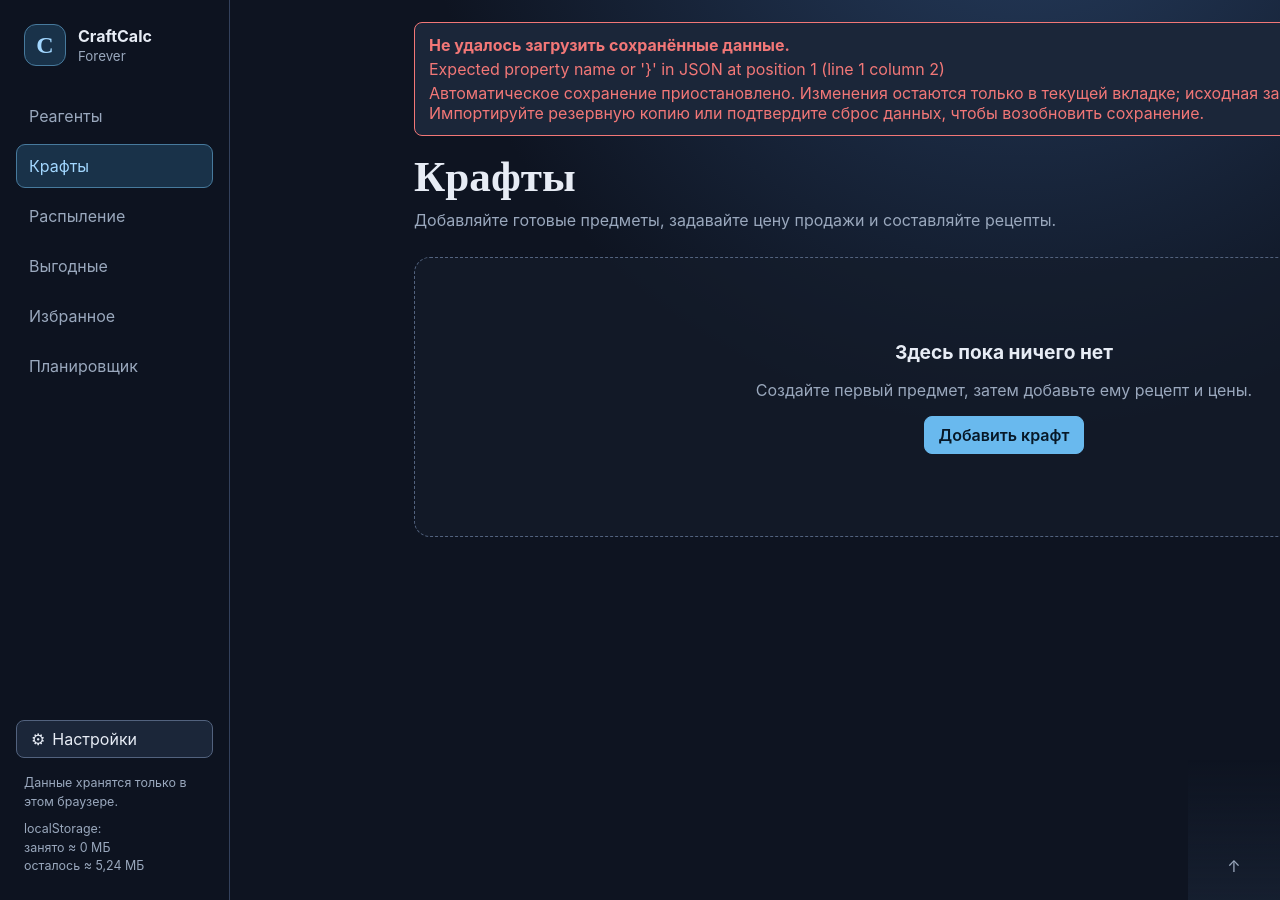
Test case: восстановление сохранения в App › сбрасывает данные только после подтверждения и убирает предупреждение
The width and height of the screenshot is (1280, 900).
Step 1. Click the button "⚙ Настройки" → point(114, 739), box 16,720 -> 213,758
(page scrolled)
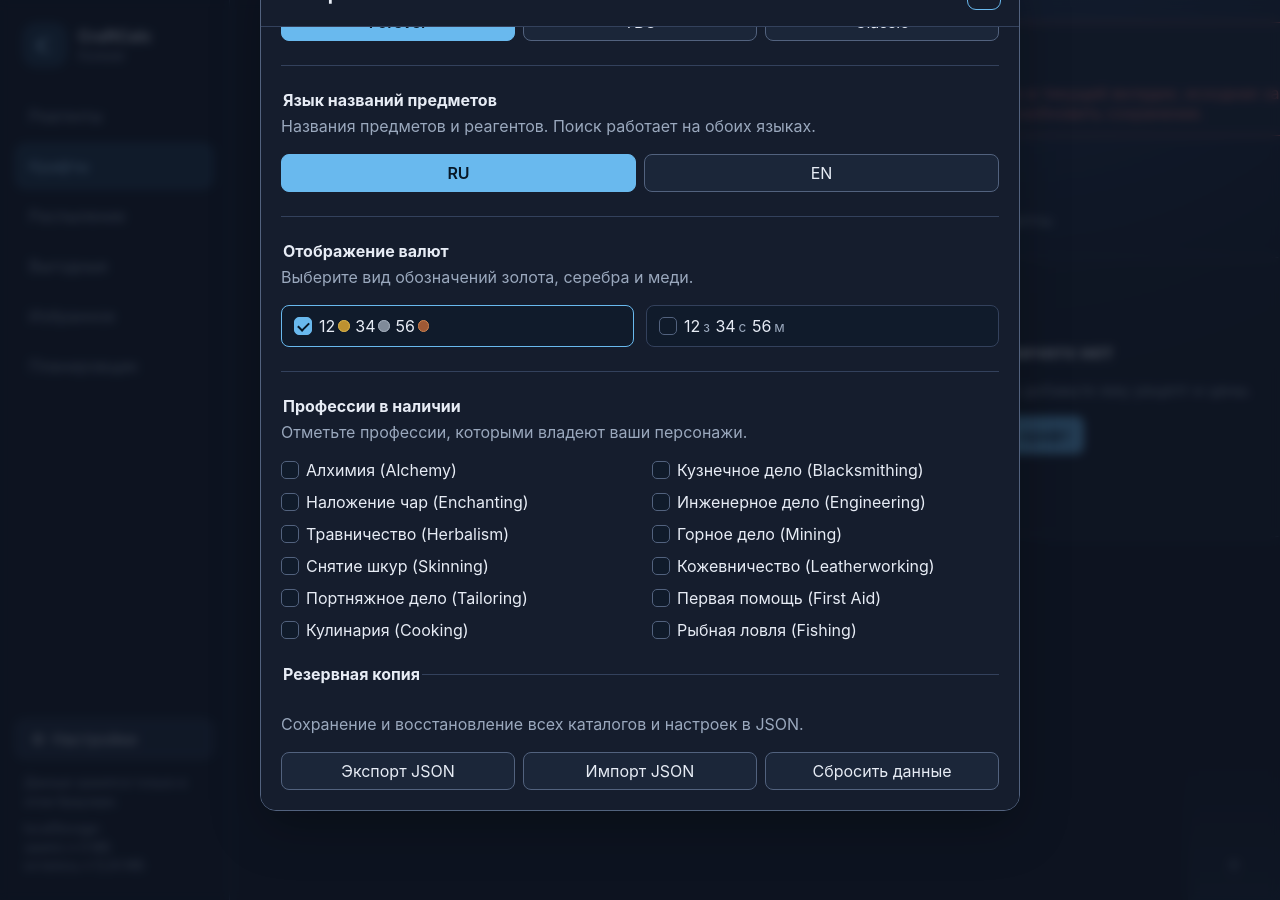
Step 2. Click the button "Сбросить данные" → point(882, 771), box 765,752 -> 999,790
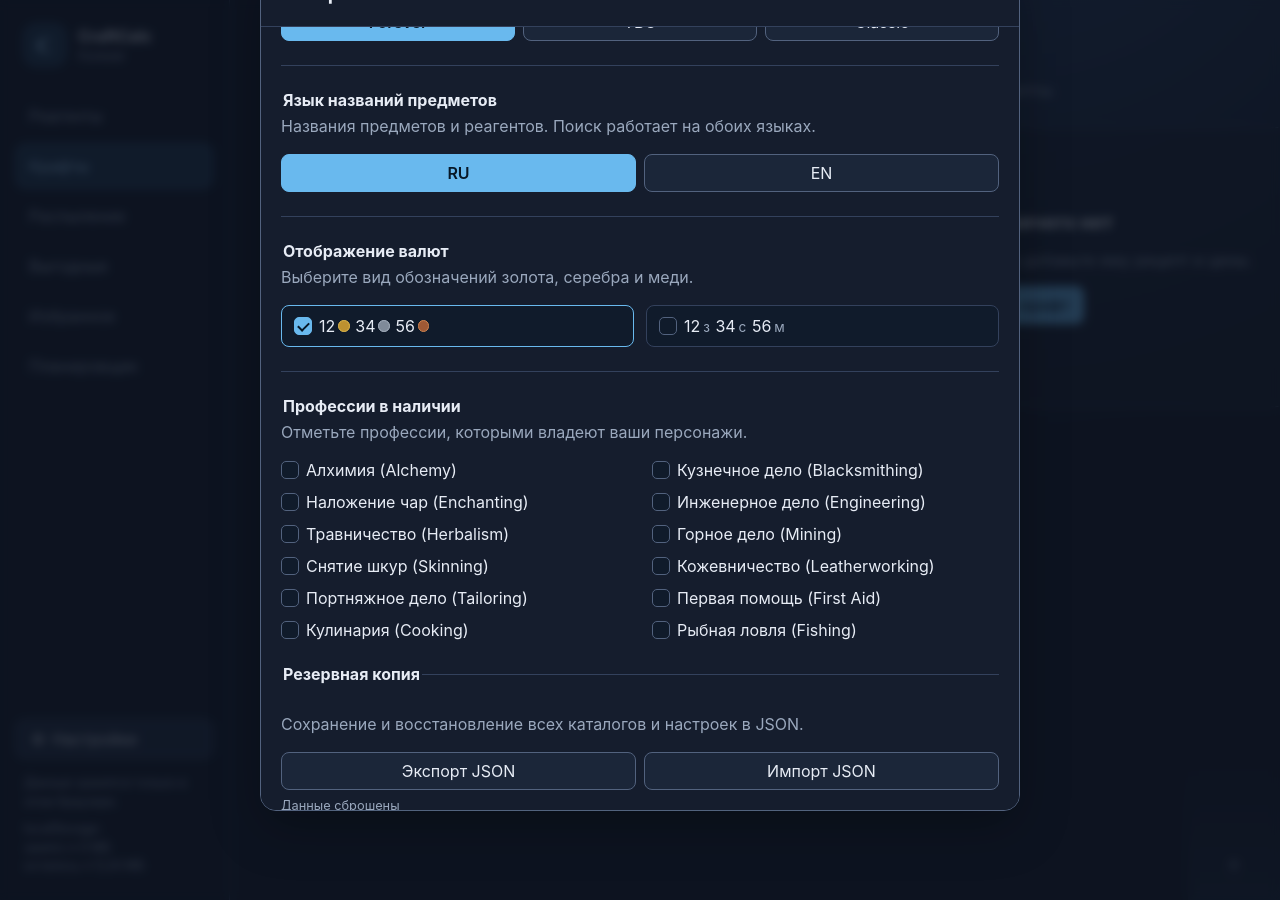
Expected: the text "Данные сброшены" is shown, 281,798 -> 400,811
